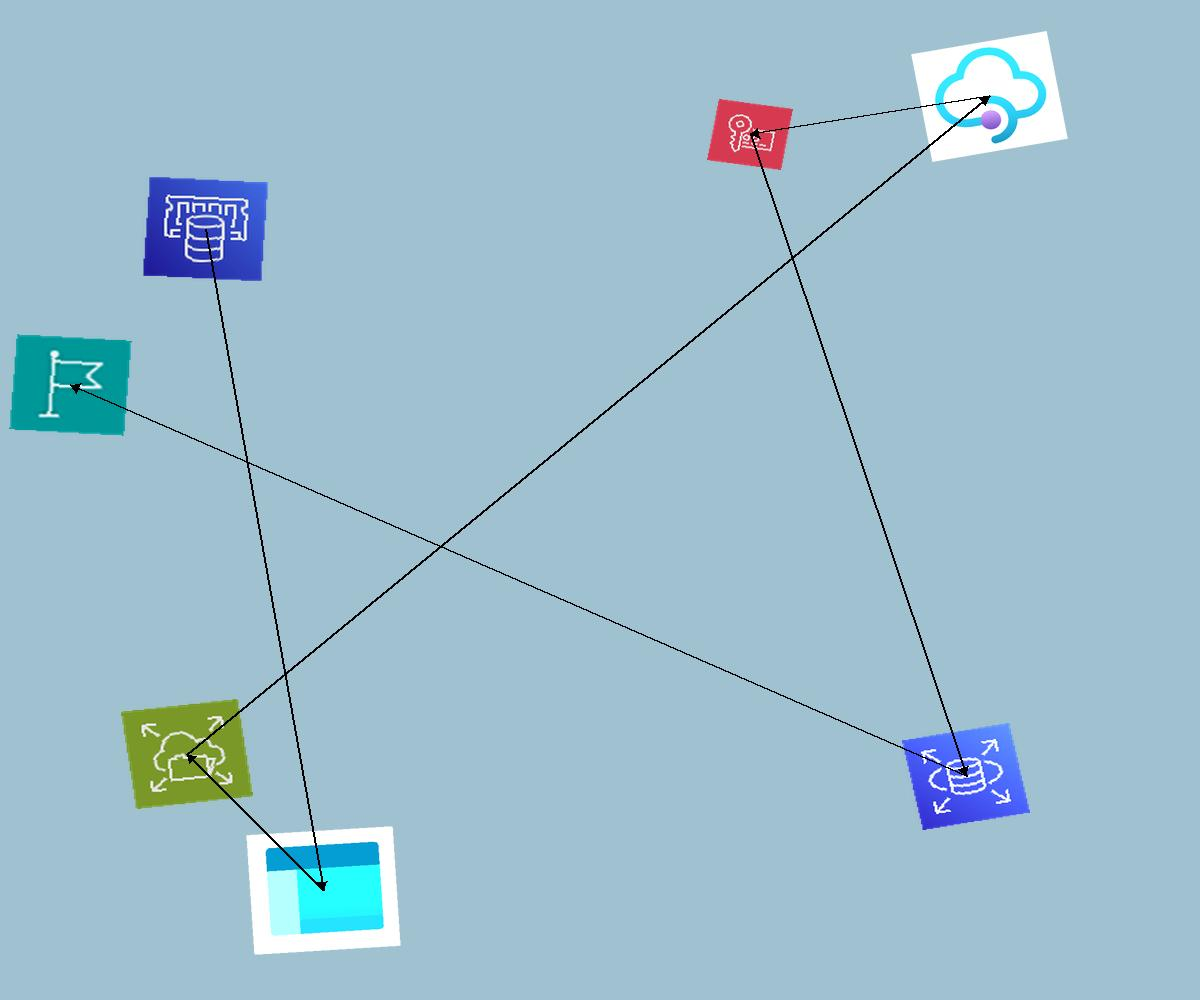AWS-EFS: (121, 699, 253, 809)
AWS-ElastiCache: (142, 176, 269, 282)
AWS-Key-Management-Service: (707, 99, 793, 170)
AWS-RDS: (902, 723, 1030, 830)
AWS-Region: (9, 334, 132, 436)
Azure_api_gateway: (911, 31, 1068, 162)
Azure_management-portal: (246, 826, 401, 955)
